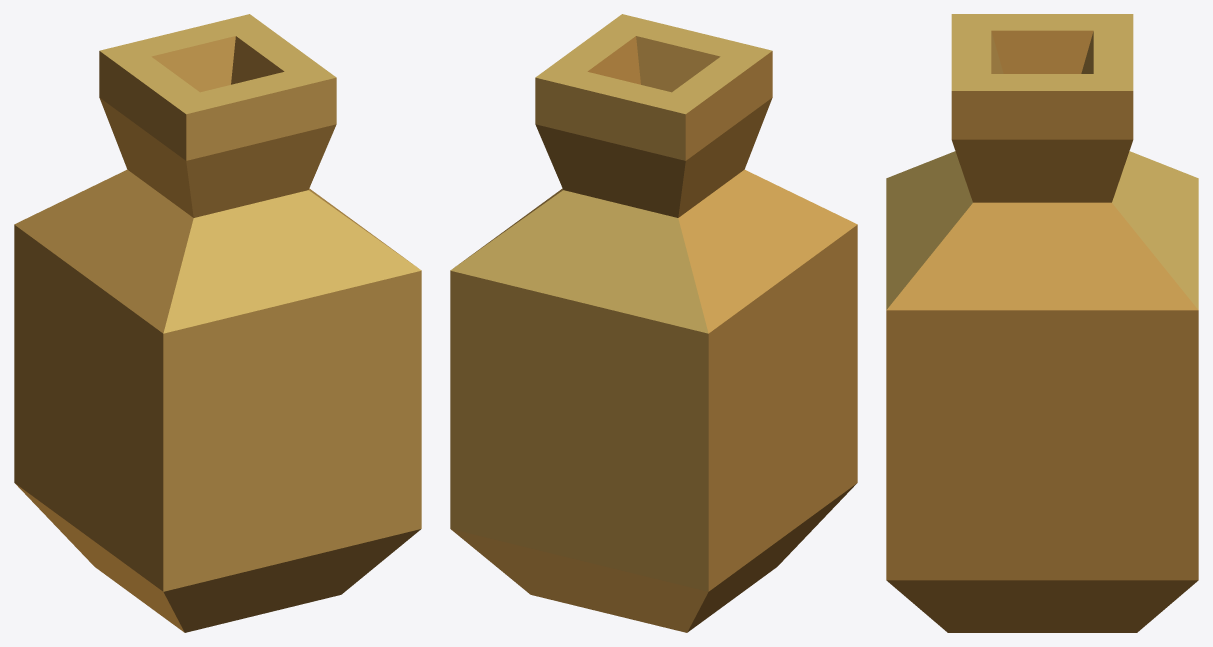
The model's file is SD_Prop_Vase_03.fbx.
3 views of the same model, side by side, from view 1: azimuth 30°, elevation 25°; view 2: azimuth 150°, elevation 25°; view 3: azimuth 270°, elevation 25° (orthographic). The views are drawn at different scales.
Parts seen in each view (by area): view 1: SD_Prop_Vase_03; view 2: SD_Prop_Vase_03; view 3: SD_Prop_Vase_03.
Part boxes in pixels (<box>): SD_Prop_Vase_03: <box>14,14,421,632</box>; SD_Prop_Vase_03: <box>450,14,857,632</box>; SD_Prop_Vase_03: <box>886,14,1198,632</box>.
Bounding box in the file's own units: 0.4713 × 0.9003 × 0.4713.
